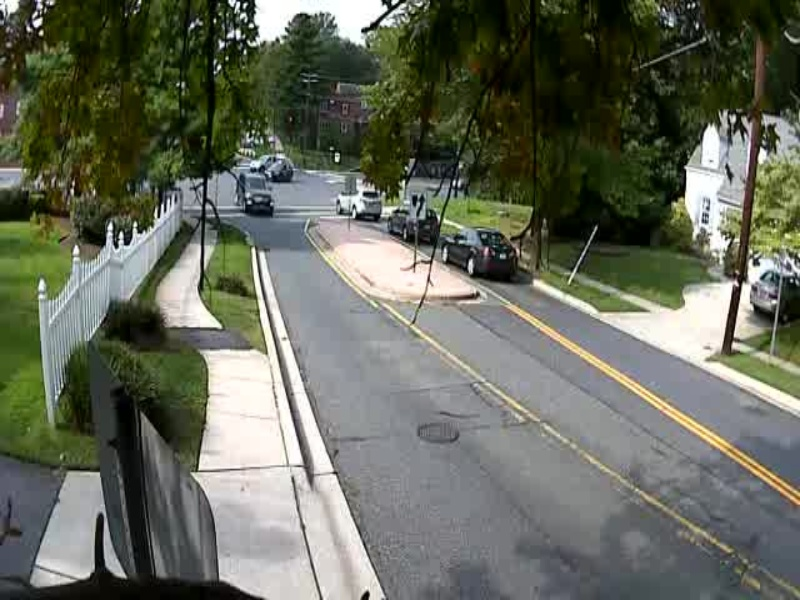car: (428, 226, 534, 278)
